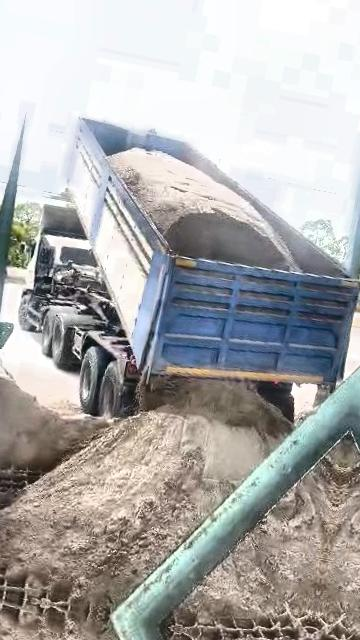sand: (0, 377, 291, 613), (172, 460, 342, 625), (109, 149, 298, 270), (0, 367, 106, 471), (328, 434, 349, 470), (296, 402, 318, 425)
